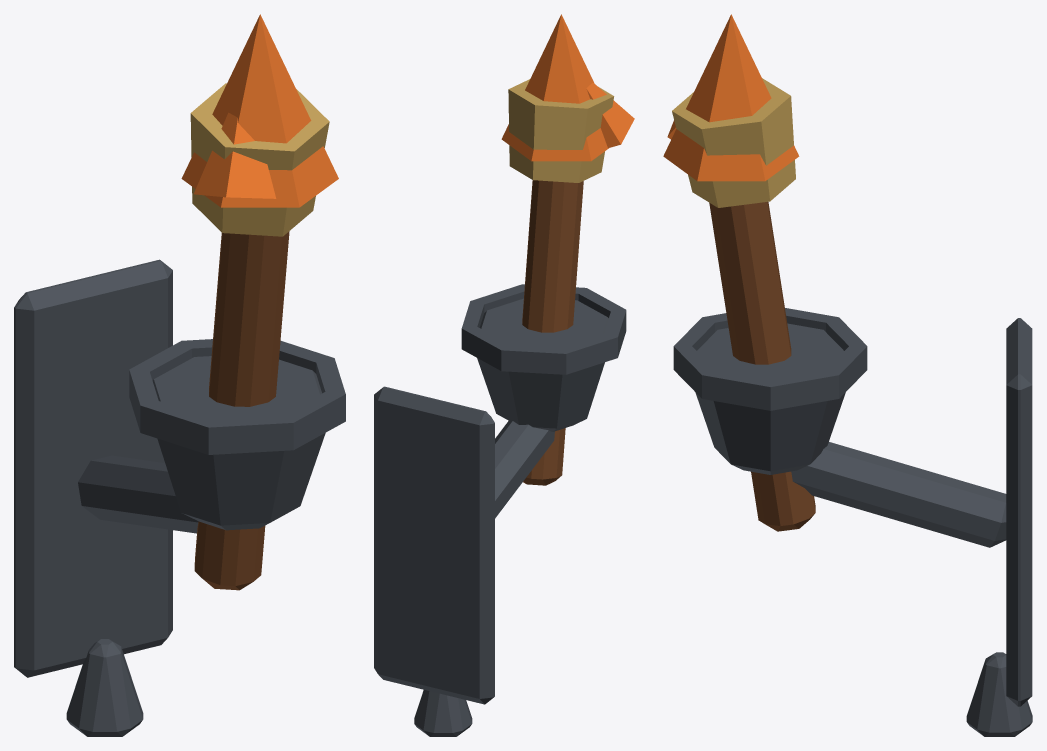
Rendered from wall_sconce.obj.
3 renders of one model, left to right at view 1: azimuth 30°, elevation 25°; view 2: azimuth 150°, elevation 25°; view 3: azimuth 270°, elevation 25°, orthographic. The views are drawn at different scales.
Visible parts, largest first — view 1: wall_sconce; view 2: wall_sconce; view 3: wall_sconce.
Boxes of the visible parts, x1,y1,x2,y2 form: wall_sconce: (14, 14, 345, 736); wall_sconce: (374, 14, 634, 736); wall_sconce: (663, 14, 1032, 736).
Bounding box in the file's own units: 0.148 × 0.6 × 0.2822.
